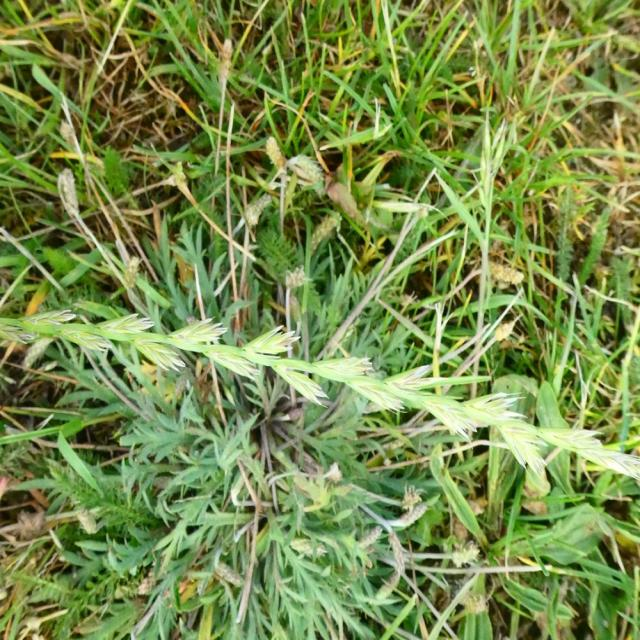Lolium: (3, 307, 640, 481)
